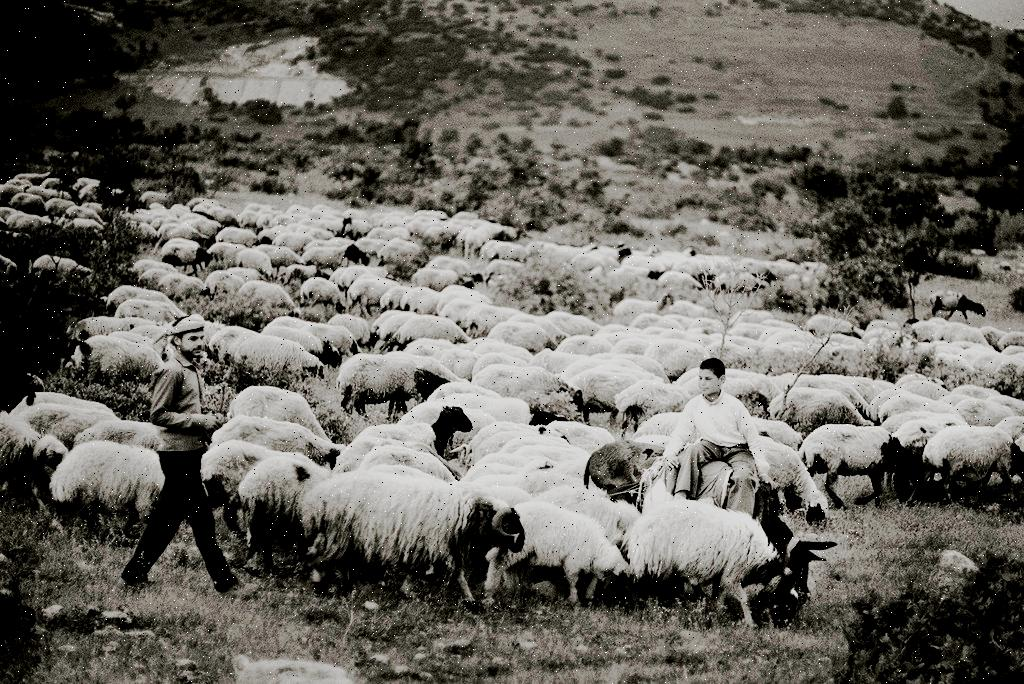Sheep: (304, 476, 526, 600), (630, 502, 806, 634), (494, 502, 636, 608), (46, 439, 168, 542), (914, 426, 1020, 510), (800, 424, 900, 510), (334, 354, 462, 413), (208, 328, 324, 390), (208, 414, 336, 468), (750, 438, 828, 526), (475, 363, 581, 424), (0, 407, 64, 504), (568, 366, 664, 430), (13, 398, 116, 454), (338, 422, 456, 470), (69, 334, 164, 391), (224, 384, 332, 434), (423, 390, 527, 436), (774, 386, 868, 436), (231, 280, 301, 330), (68, 315, 154, 351), (388, 312, 468, 350), (298, 320, 358, 365), (884, 411, 966, 440), (158, 238, 214, 278), (925, 290, 990, 322), (346, 276, 400, 314), (32, 255, 96, 287), (300, 242, 356, 278), (151, 272, 207, 306), (262, 325, 318, 358), (376, 237, 424, 275), (298, 276, 345, 314), (253, 243, 303, 277), (232, 247, 276, 279), (205, 242, 251, 272)
